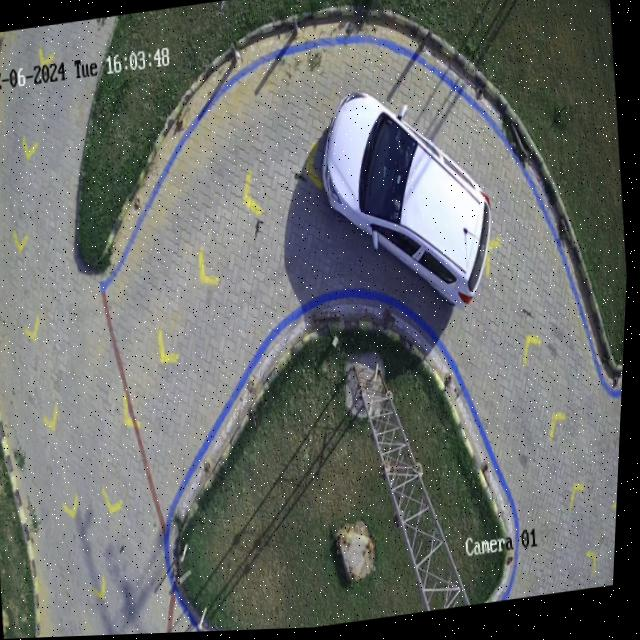car: (324, 94, 493, 309)
